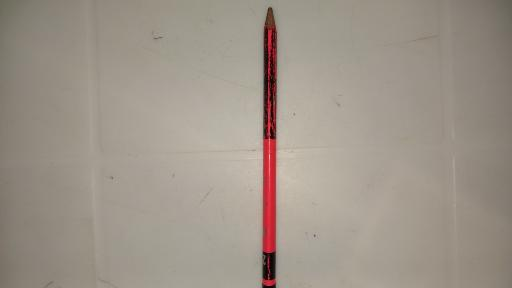Pencil: (262, 2, 277, 288)
